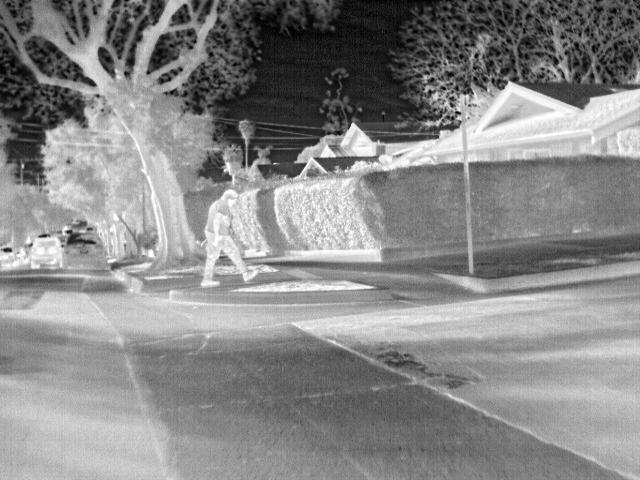car: (61, 233, 106, 273), (30, 237, 61, 269), (0, 244, 19, 267)
person: (198, 188, 258, 288)
